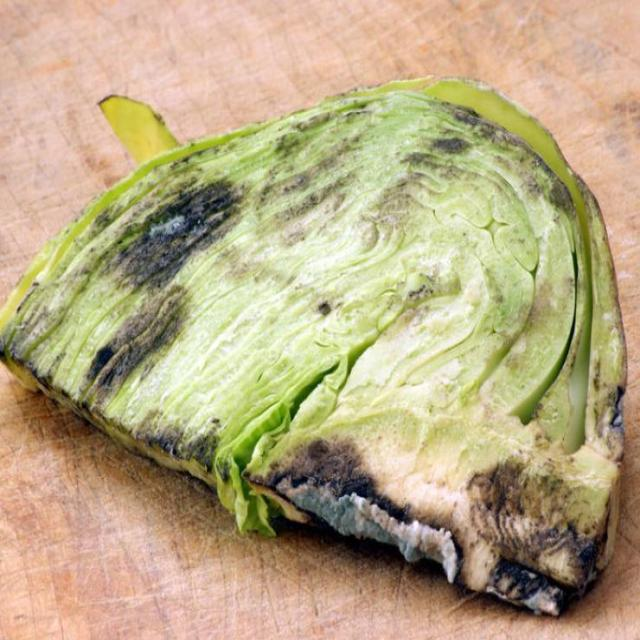-Kitchen waste - vegetable roots and leaves-: (2, 82, 629, 596)
